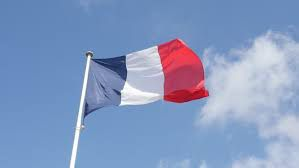French Flag: (83, 39, 210, 130)
